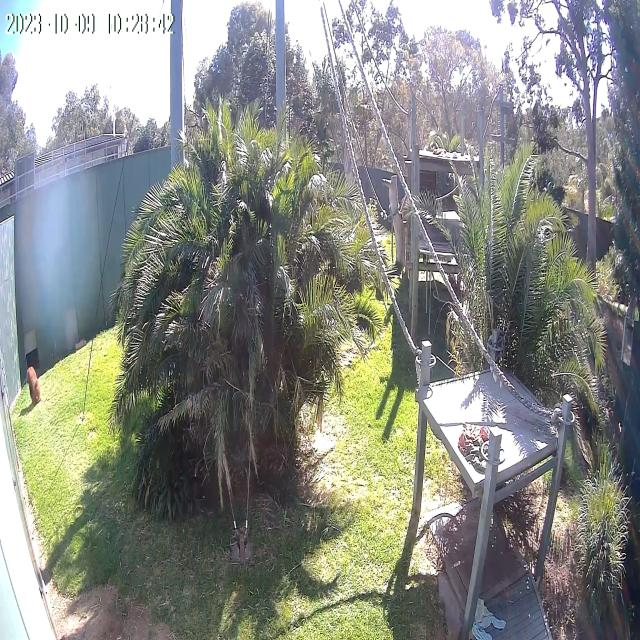orangutan: (26, 365, 42, 406)
